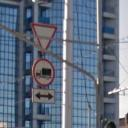preferencia: (29, 21, 60, 56)
